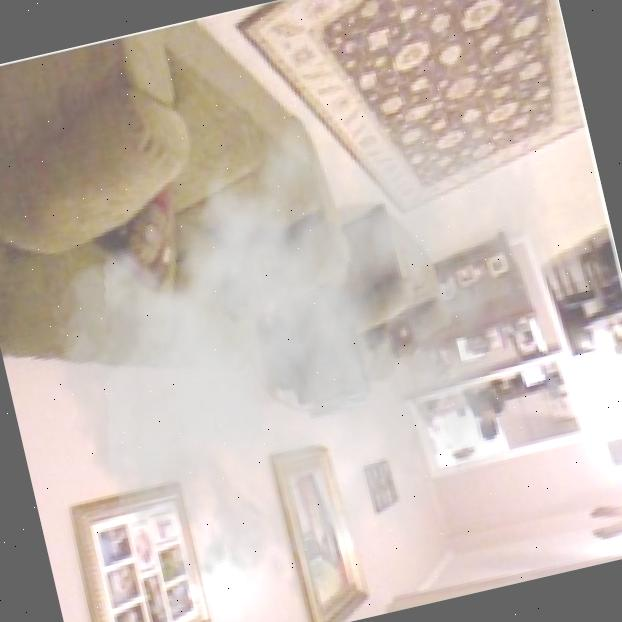smoke: (0, 24, 622, 622)
